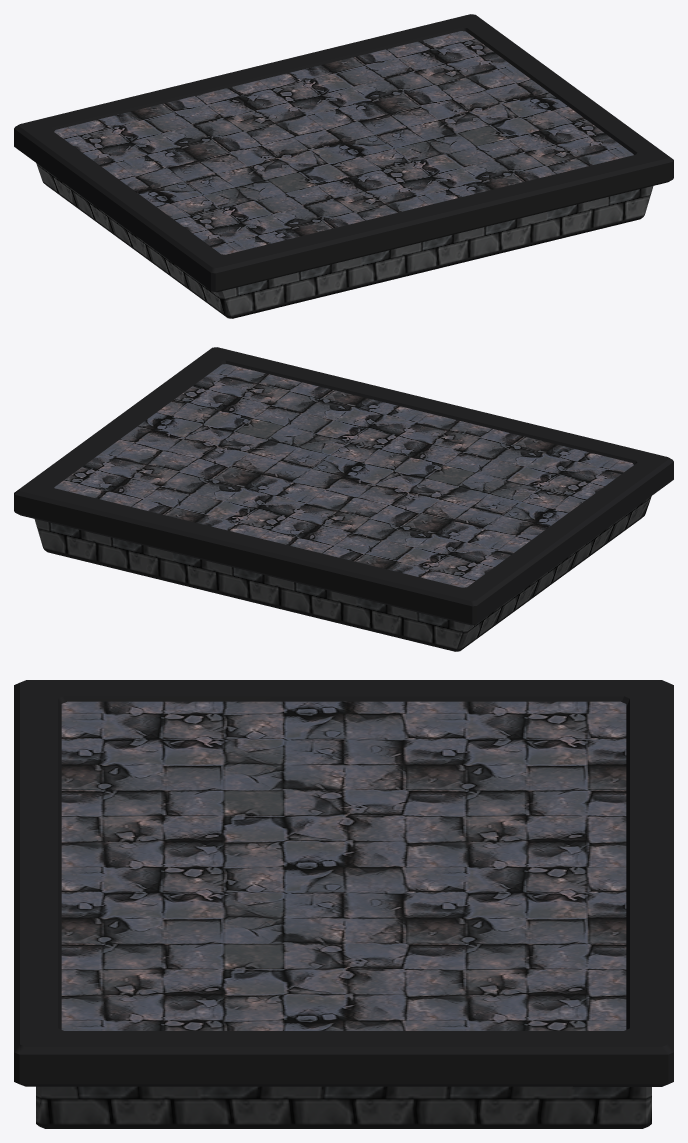
Rendered from M_Platform_4.fbx.
3 views of the same model, one above another, from view 1: azimuth 30°, elevation 25°; view 2: azimuth 150°, elevation 25°; view 3: azimuth 270°, elevation 25° (orthographic). The views are drawn at different scales.
Parts seen in each view (by area): view 1: M_Platform_4; view 2: M_Platform_4; view 3: M_Platform_4.
Boxes of the visible parts, x1=… form: M_Platform_4: x1=14, y1=14, x2=673, y2=318; M_Platform_4: x1=14, y1=347, x2=673, y2=651; M_Platform_4: x1=14, y1=680, x2=673, y2=1128.
Size of the model in its own units: 400 by 49.7 by 300.
